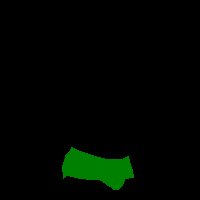mutande: (62, 146, 134, 190)
